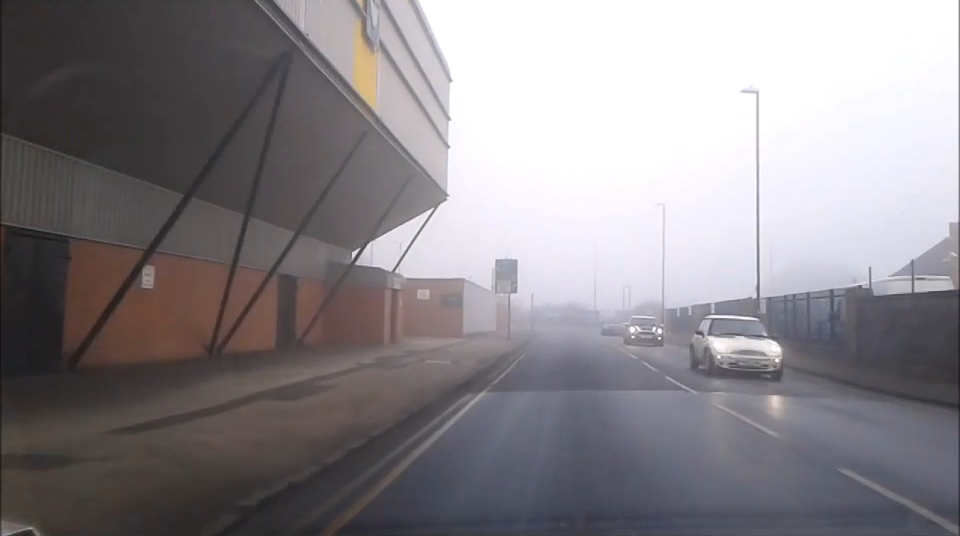car: (689, 310, 790, 380), (624, 313, 668, 345), (598, 318, 627, 338)
